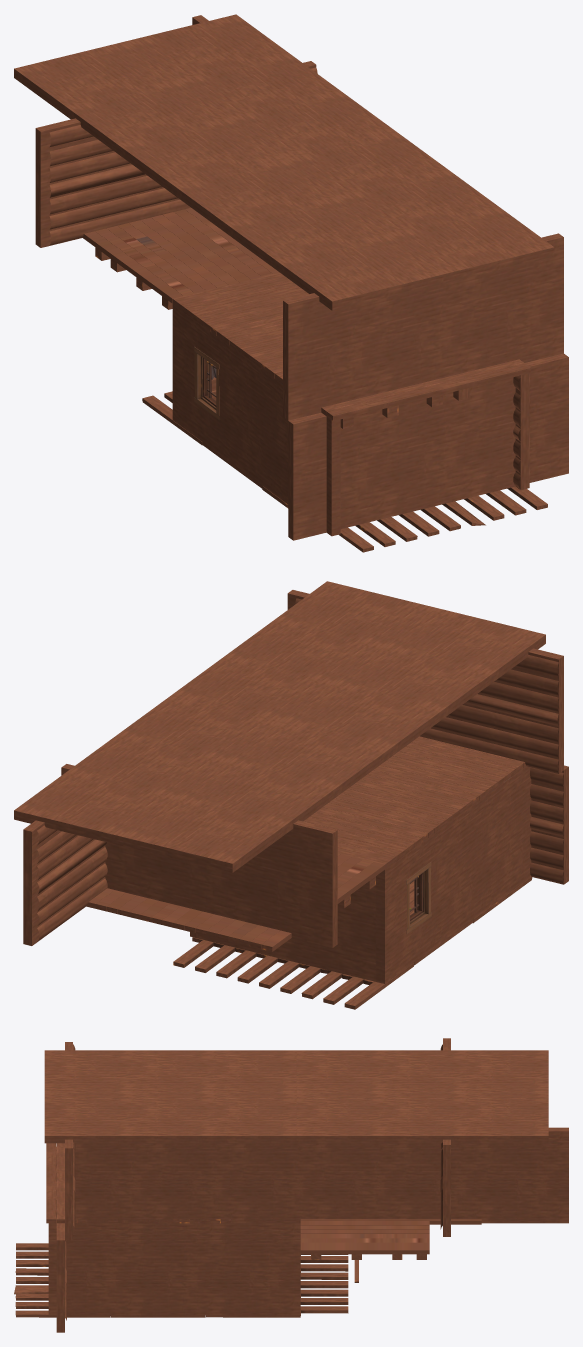
Rendered from cozy_reading_nook.glb.
The picture shows the model from 3 angles, top to bottom: view 1: azimuth 30°, elevation 25°; view 2: azimuth 150°, elevation 25°; view 3: azimuth 270°, elevation 25°; orthographic projection. The views are drawn at different scales.
Parts seen in each view (by area): view 1: SM_MERGED_StaticMeshActor_125; view 2: SM_MERGED_StaticMeshActor_125; view 3: SM_MERGED_StaticMeshActor_125.
Part boxes in pixels (x1,y1,x2,y2): SM_MERGED_StaticMeshActor_125: [14, 14, 568, 552]; SM_MERGED_StaticMeshActor_125: [14, 581, 568, 1009]; SM_MERGED_StaticMeshActor_125: [14, 1038, 568, 1332].
Bounding box in the file's own units: 720 × 521 × 1365.
Materials: 1 (1 with a texture image).
